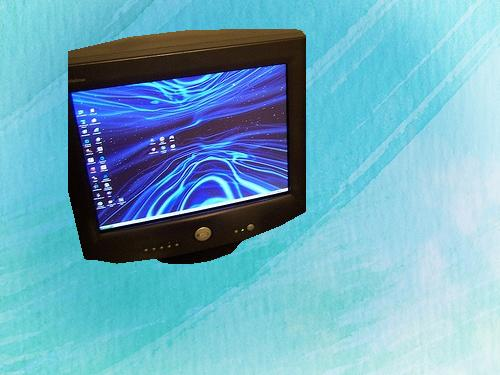tampered: (69, 30, 306, 264)
